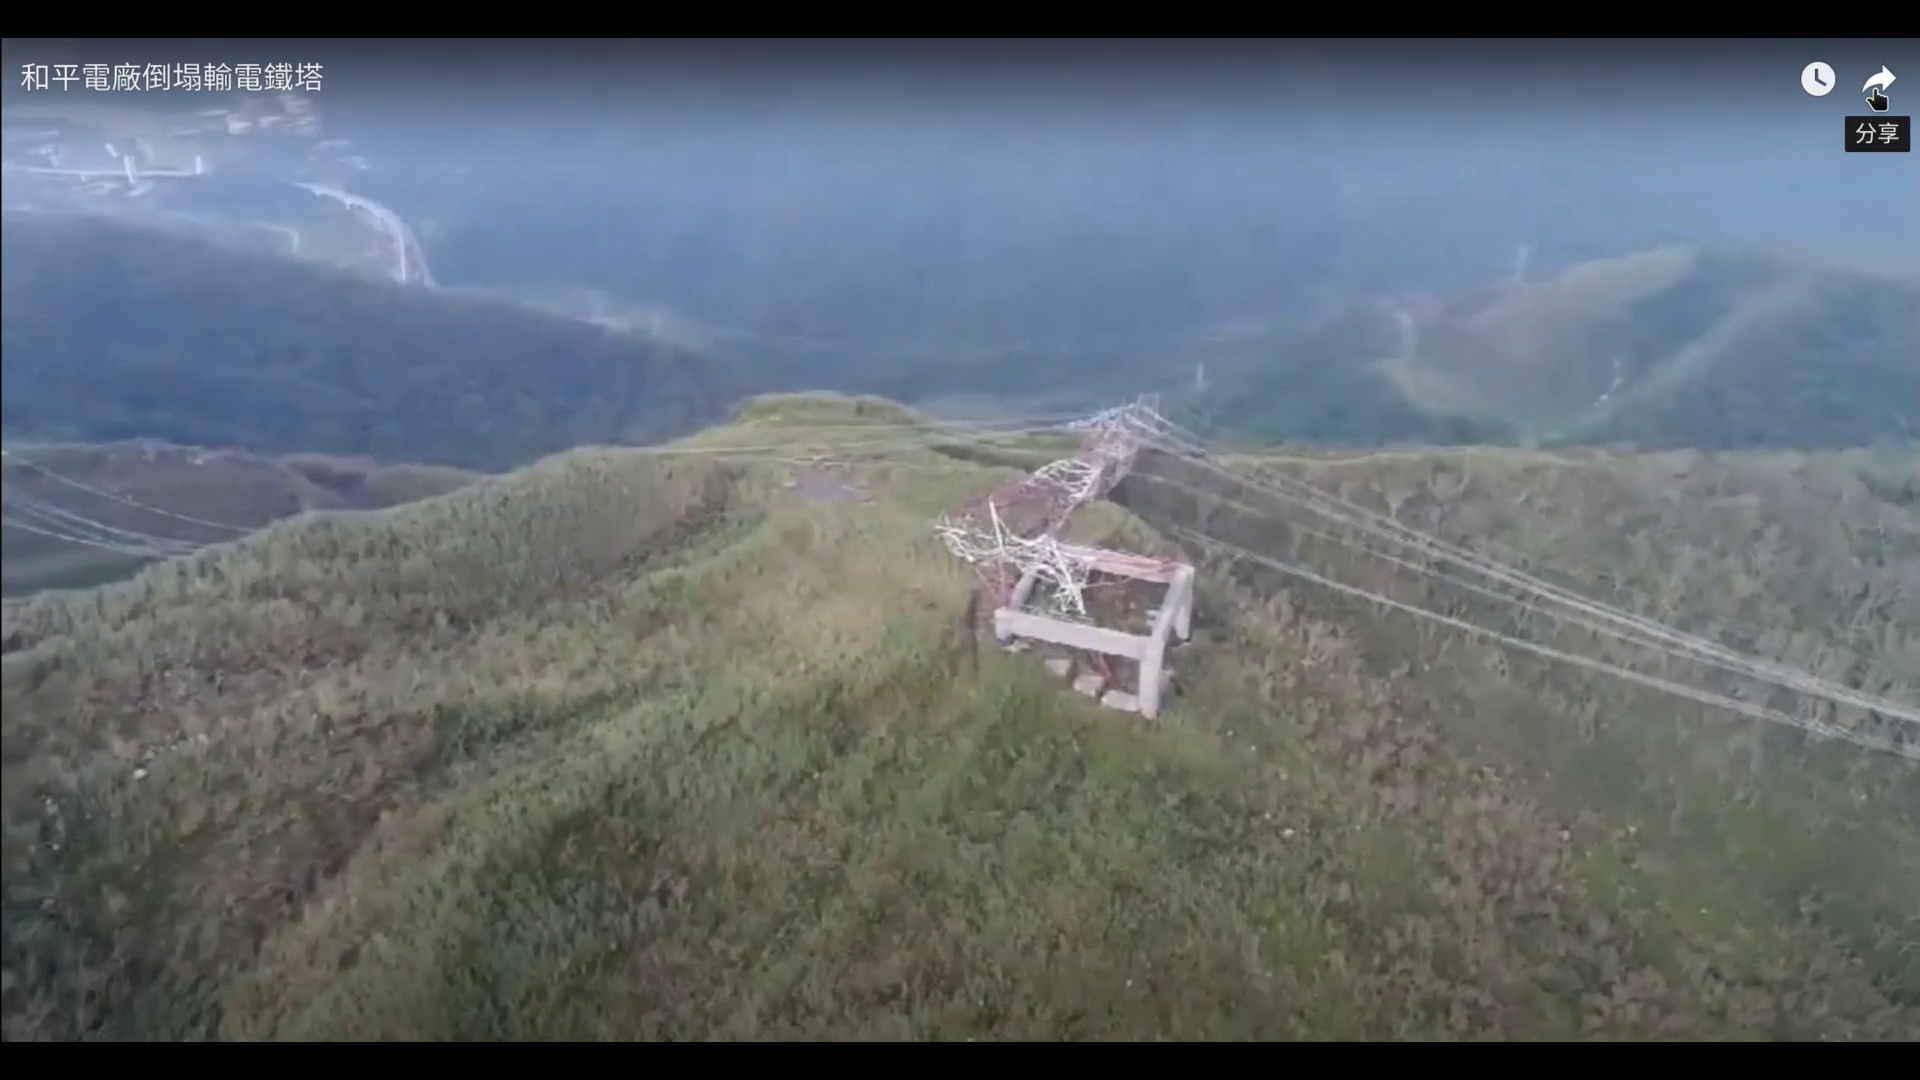tower_down: (938, 364, 1168, 585)
